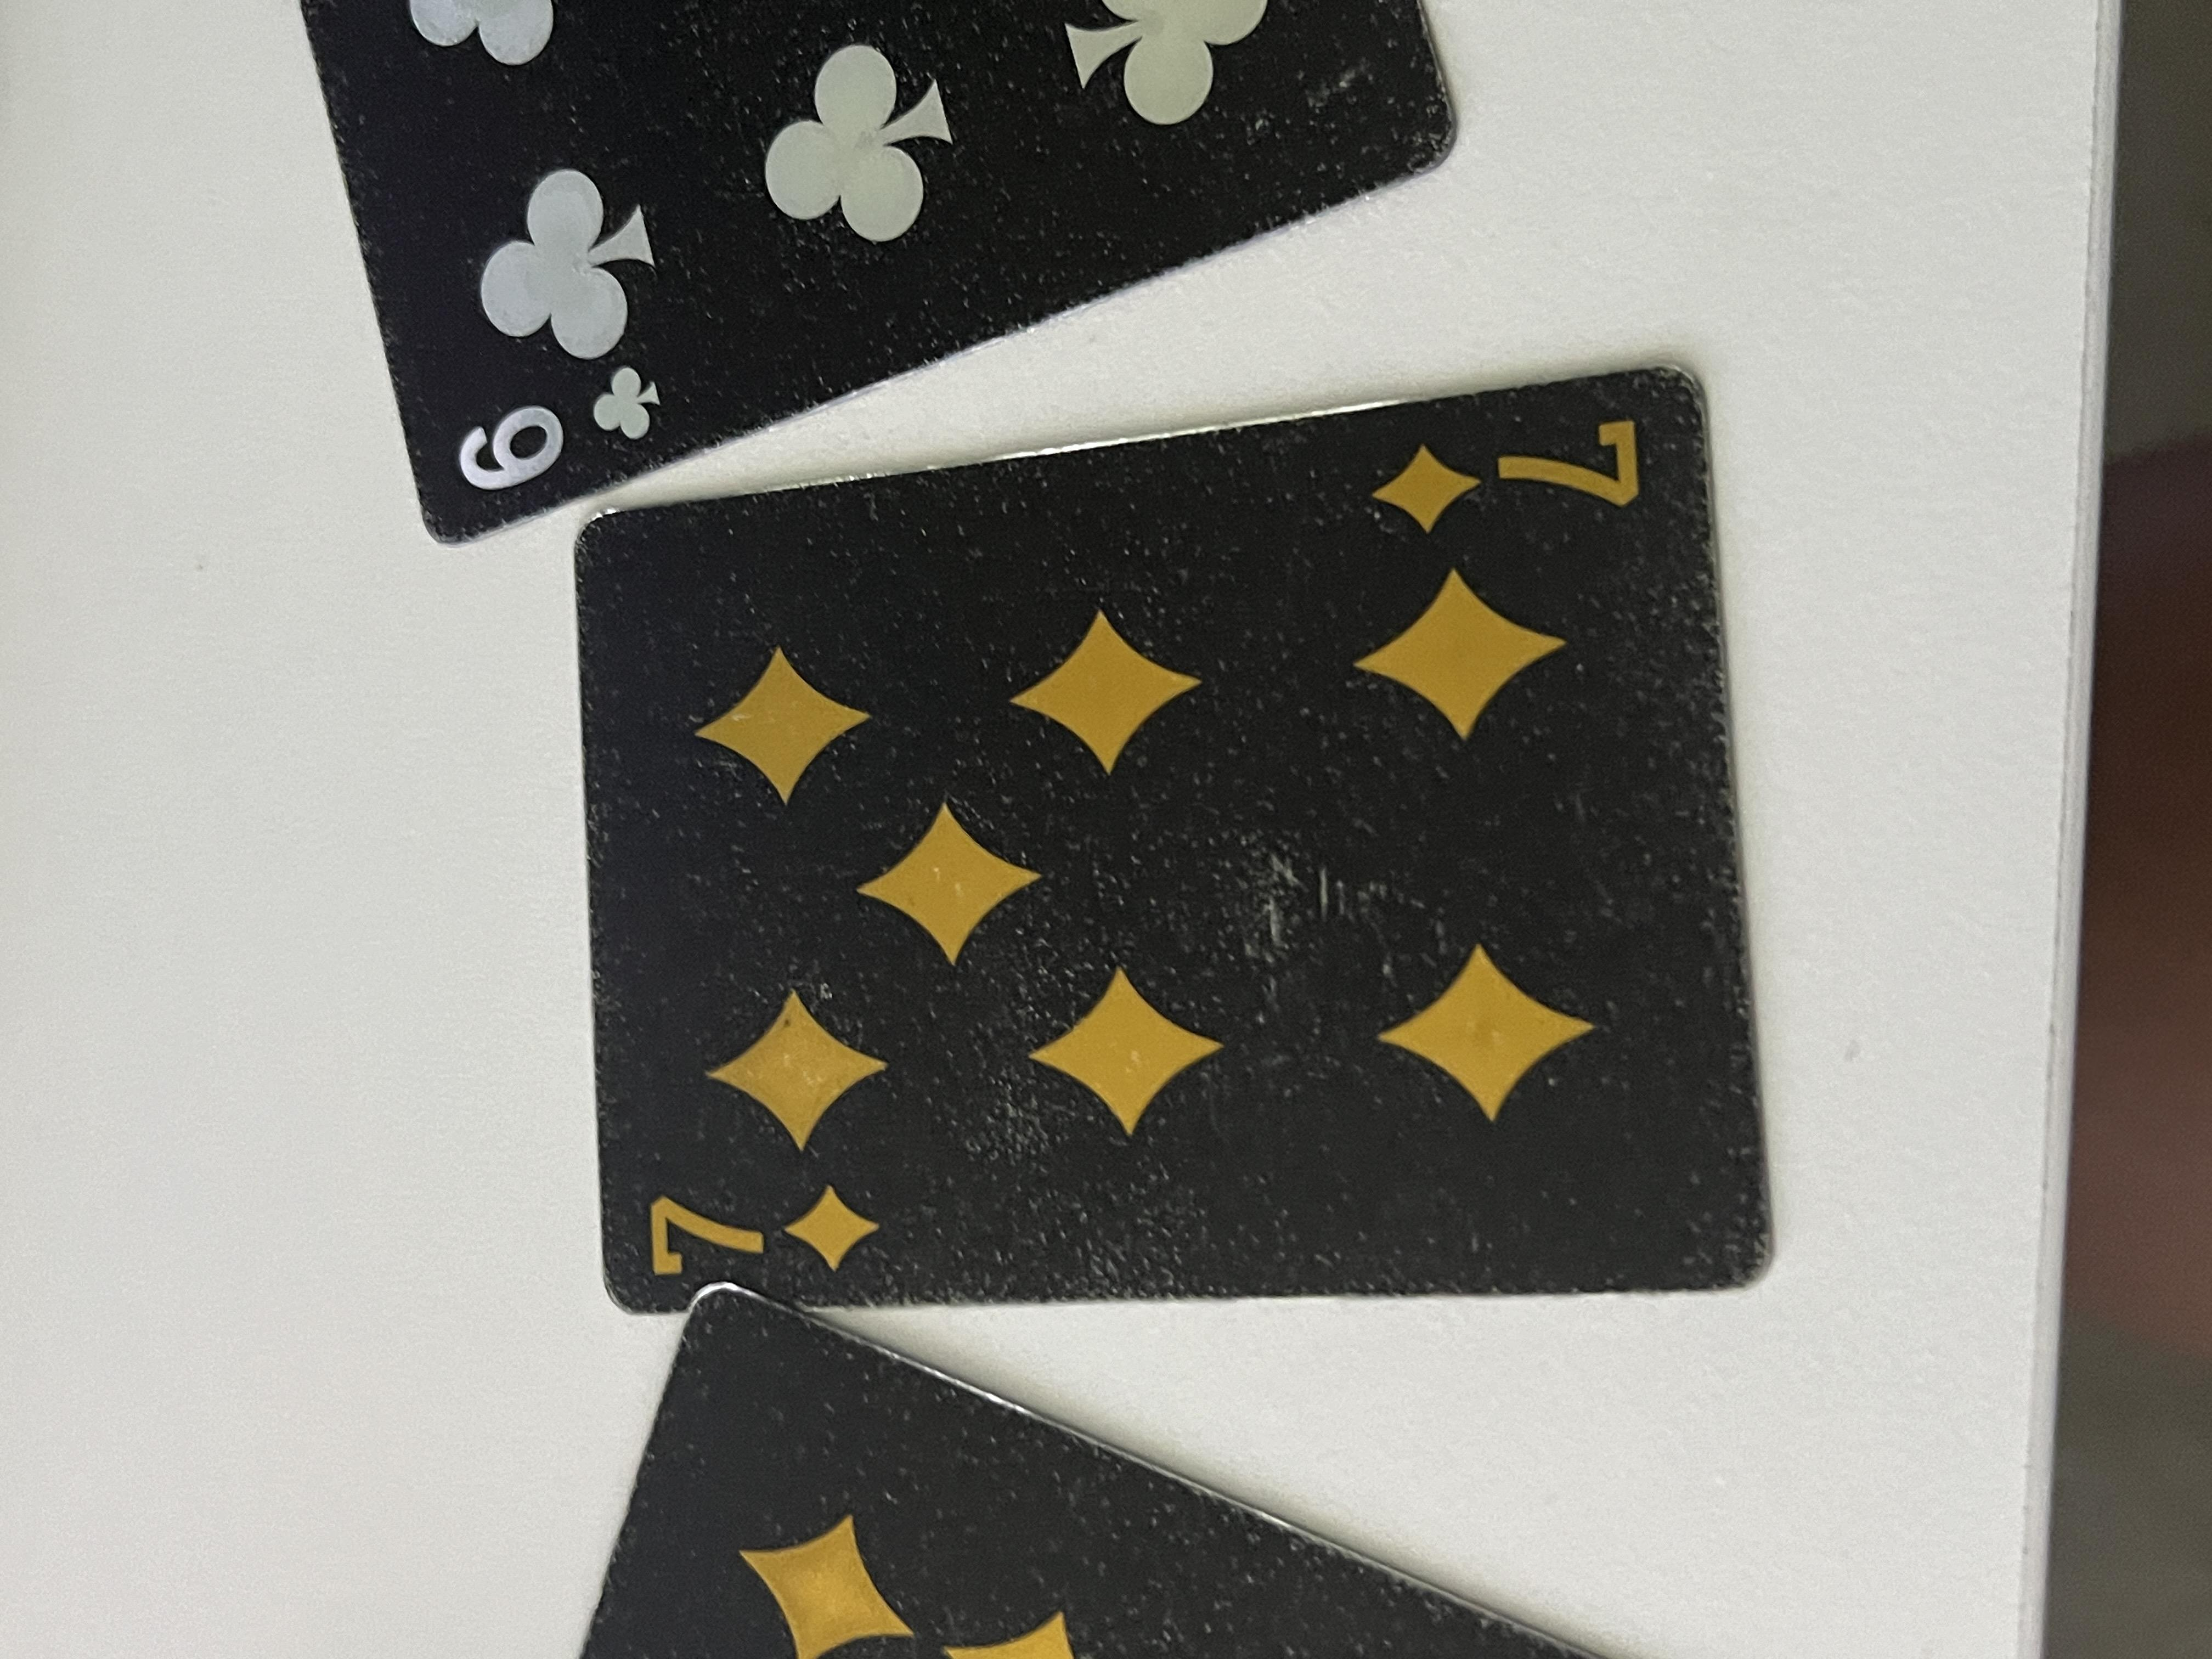6C: (1526, 329, 1766, 497)
7D: (1470, 1014, 1672, 1253), (475, 476, 669, 674)
